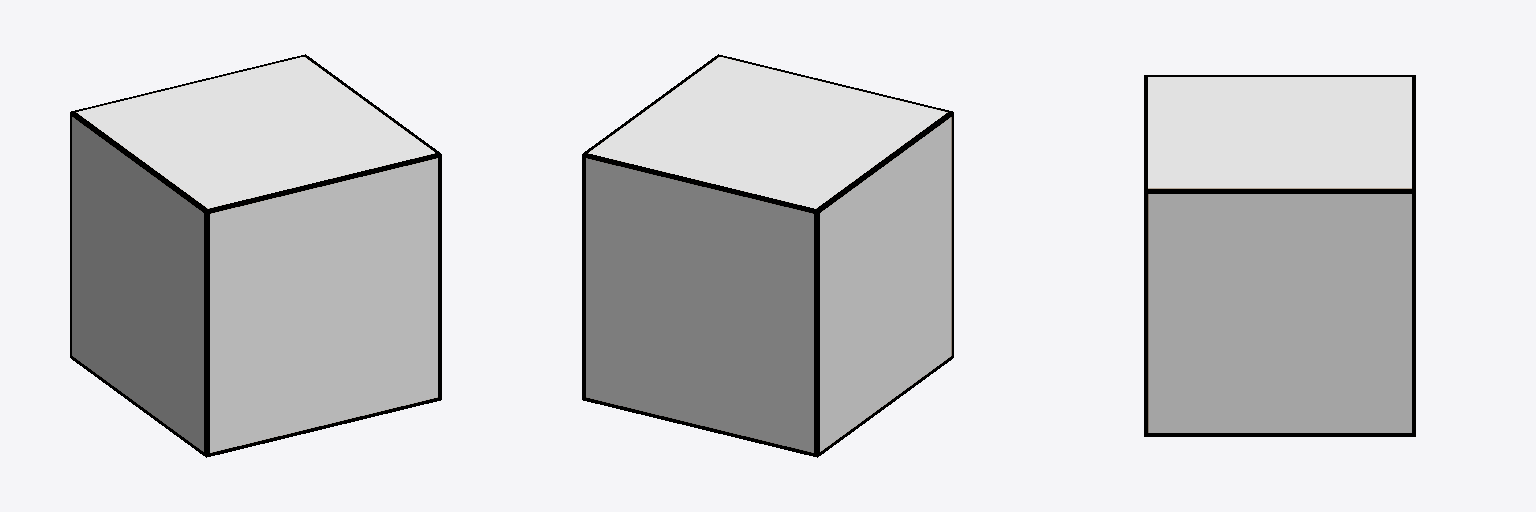
3 renders of one model, left to right at view 1: azimuth 30°, elevation 25°; view 2: azimuth 150°, elevation 25°; view 3: azimuth 270°, elevation 25°, orthographic.
Parts seen in each view (by area): view 1: Cube; view 2: Cube; view 3: Cube.
Boxes of the visible parts, <box> form: Cube: <box>70,54,441,457</box>; Cube: <box>582,54,953,457</box>; Cube: <box>1144,75,1415,436</box>.
Bounding box in the file's own units: 1 × 1 × 1.
Materials: 1 (1 with a texture image).